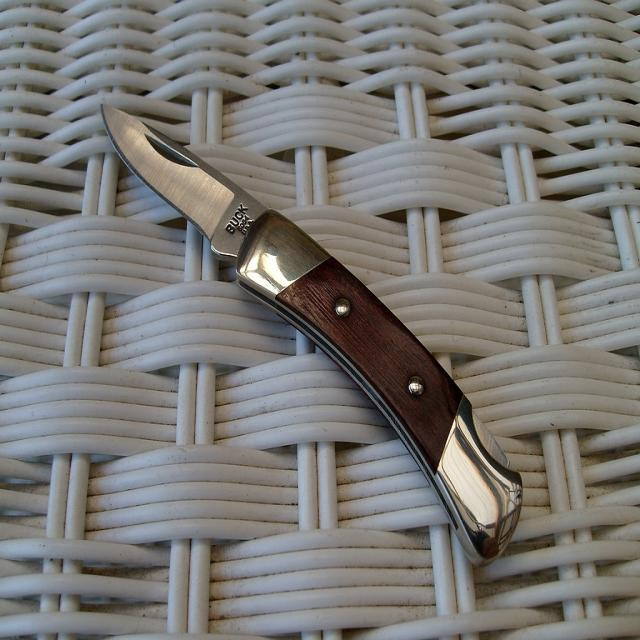Knife: (101, 106, 523, 561)
